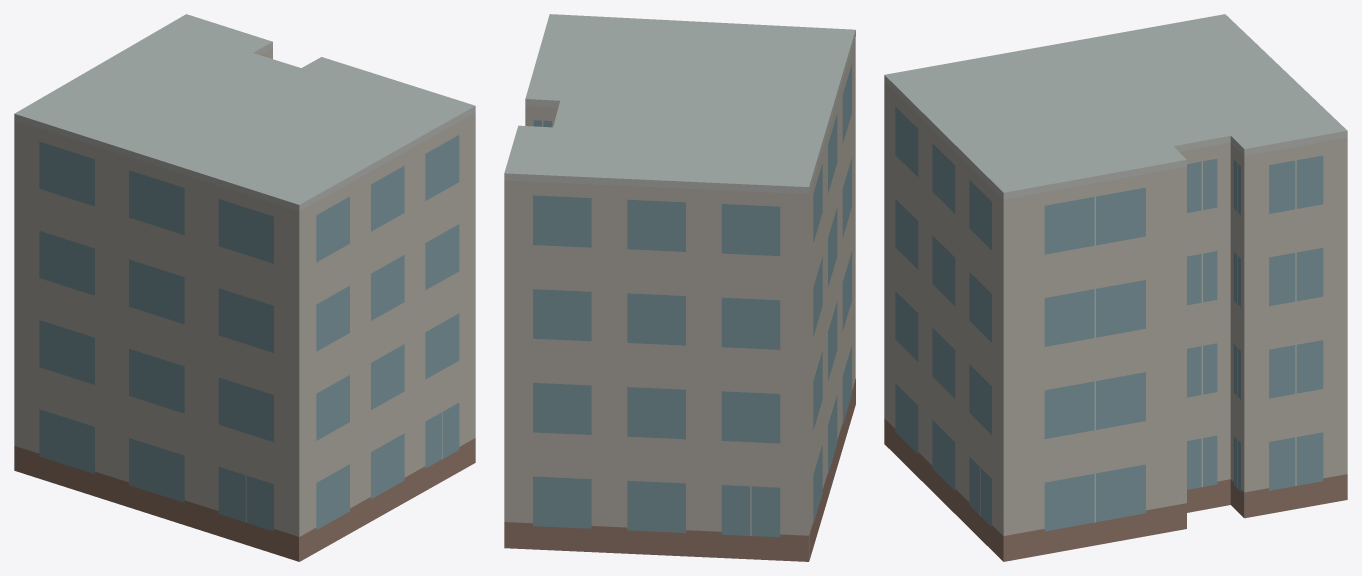
The model's file is survey-upis-32694967.glb.
The picture shows the model from 3 angles, left to right: view 1: azimuth 30°, elevation 25°; view 2: azimuth 150°, elevation 25°; view 3: azimuth 270°, elevation 25°; orthographic projection. The views are drawn at different scales.
Parts seen in each view (by area): view 1: survey-upis-32694967.tmp; view 2: survey-upis-32694967.tmp; view 3: survey-upis-32694967.tmp.
Boxes of the visible parts, box(x1,y1,x2,y2) form: survey-upis-32694967.tmp: box(14, 14, 475, 561); survey-upis-32694967.tmp: box(504, 14, 855, 561); survey-upis-32694967.tmp: box(884, 14, 1347, 561).
Bounding box in the file's own units: 13.77 × 13.25 × 15.08.
